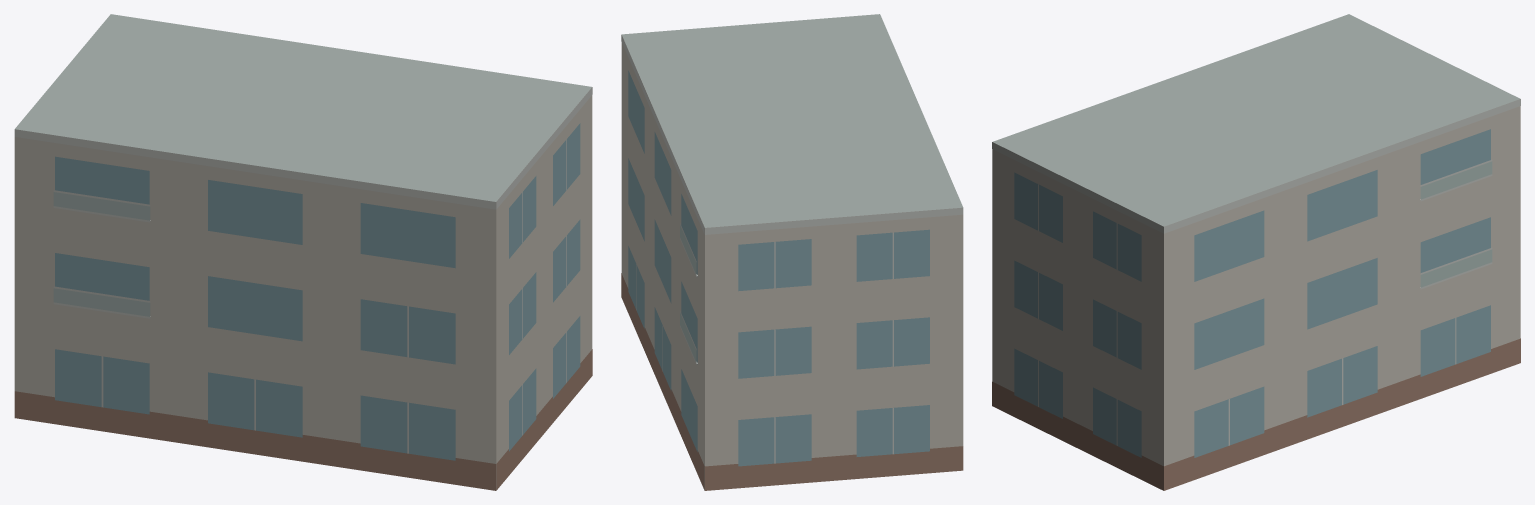
Rendered from survey-upis-32722293.glb.
3 renders of one model, left to right at view 1: azimuth 30°, elevation 25°; view 2: azimuth 150°, elevation 25°; view 3: azimuth 270°, elevation 25°, orthographic. The views are drawn at different scales.
Parts seen in each view (by area): view 1: survey-upis-32722293.tmp; view 2: survey-upis-32722293.tmp; view 3: survey-upis-32722293.tmp.
Part boxes in pixels (x1,y1,x2,y2): survey-upis-32722293.tmp: (14,14,592,490); survey-upis-32722293.tmp: (621,14,963,490); survey-upis-32722293.tmp: (992,14,1520,490).
Bounding box in the file's own units: 15.81 × 9.15 × 16.6.
